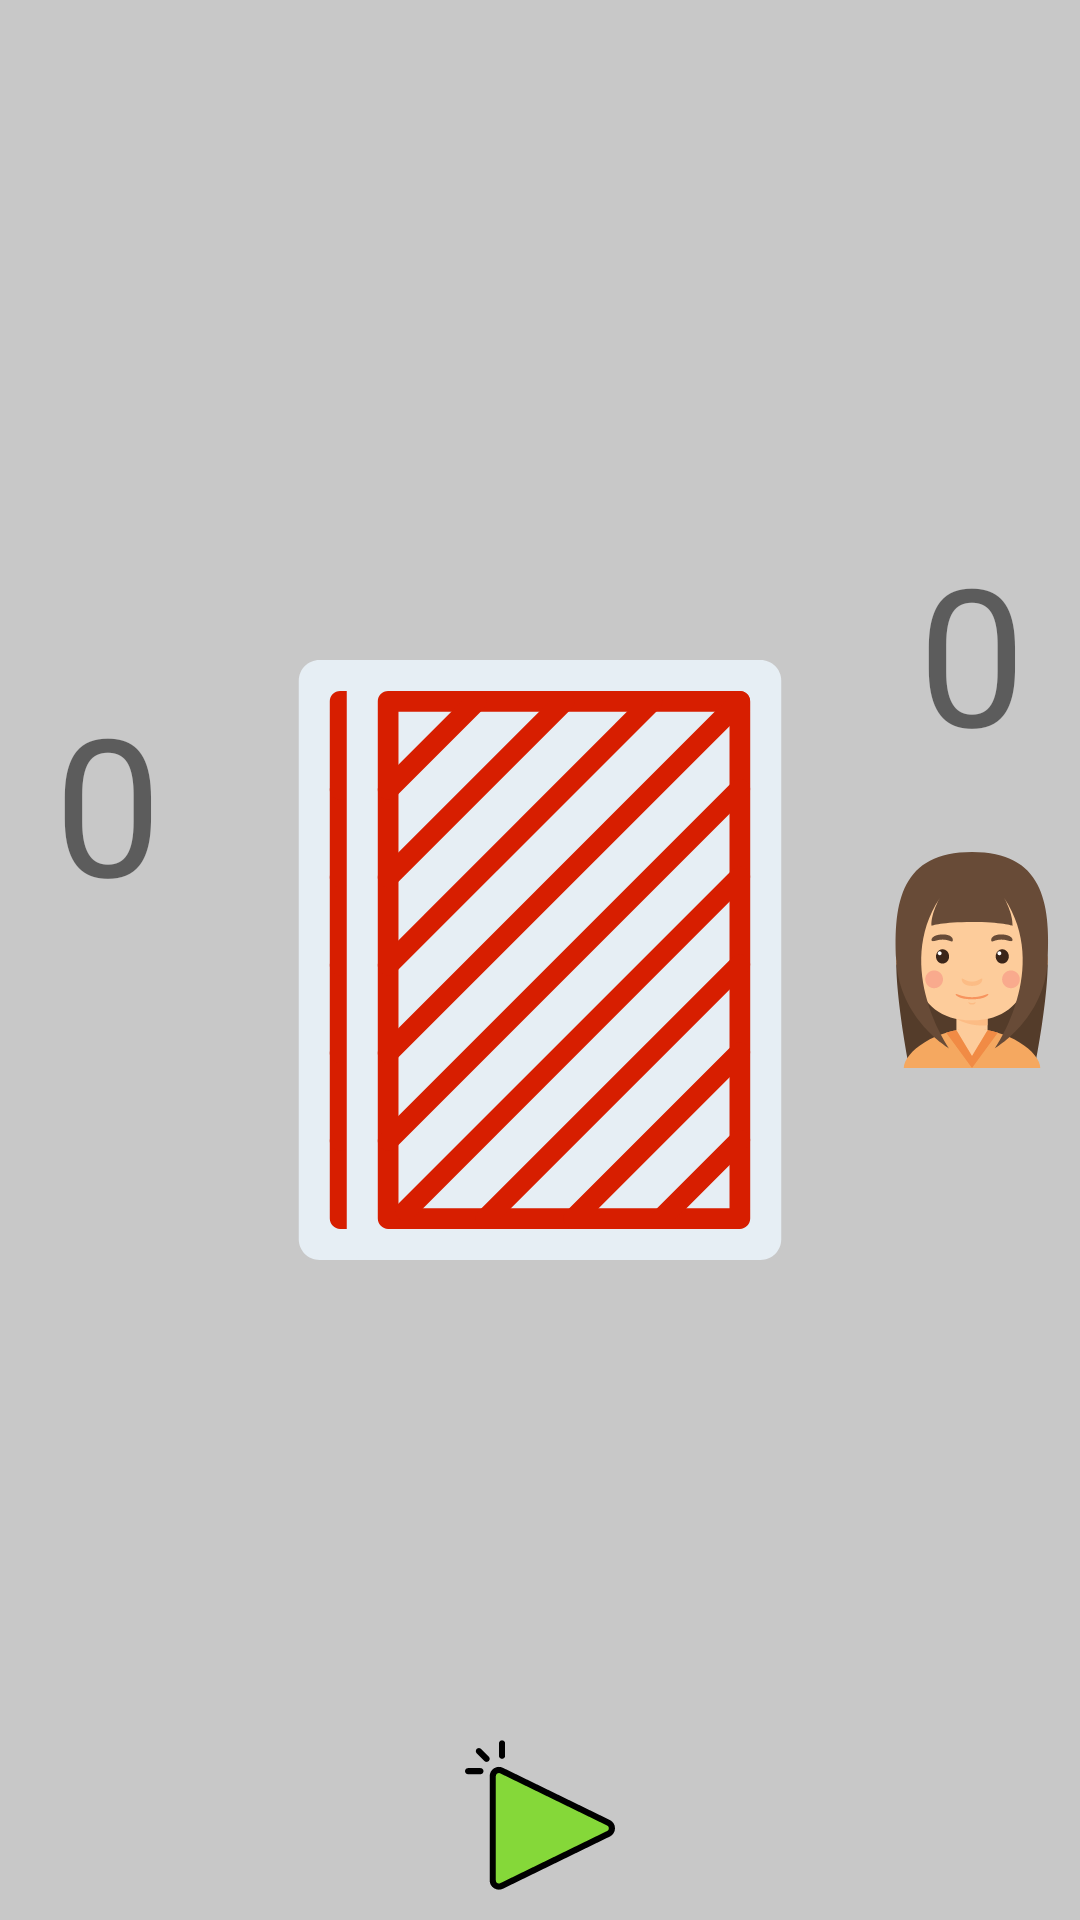

Icons on this 1080w x 1920h Android screen, each with the point to tap as (x=x, y=y):
play: (x=540, y=1815)
player girl: (x=971, y=960)
